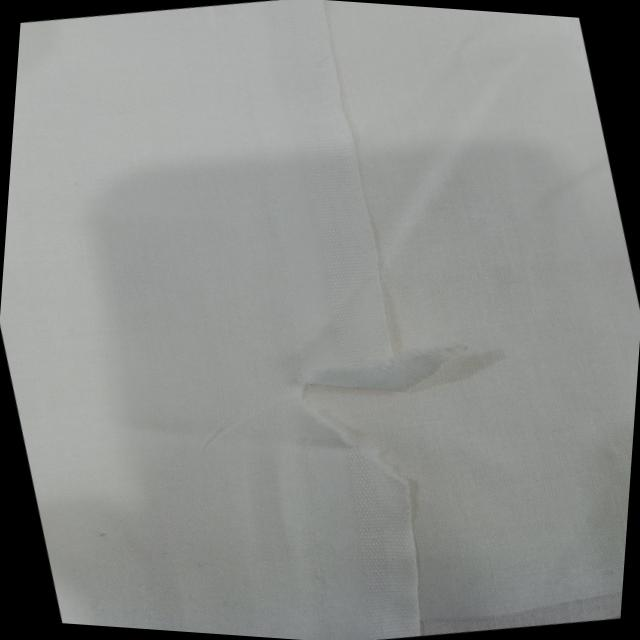cut: (284, 332, 495, 480)
